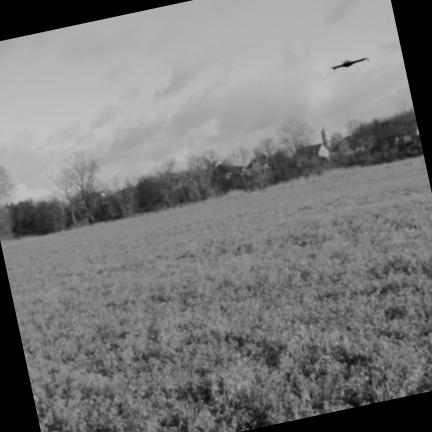Shahed: (332, 58, 368, 70)
